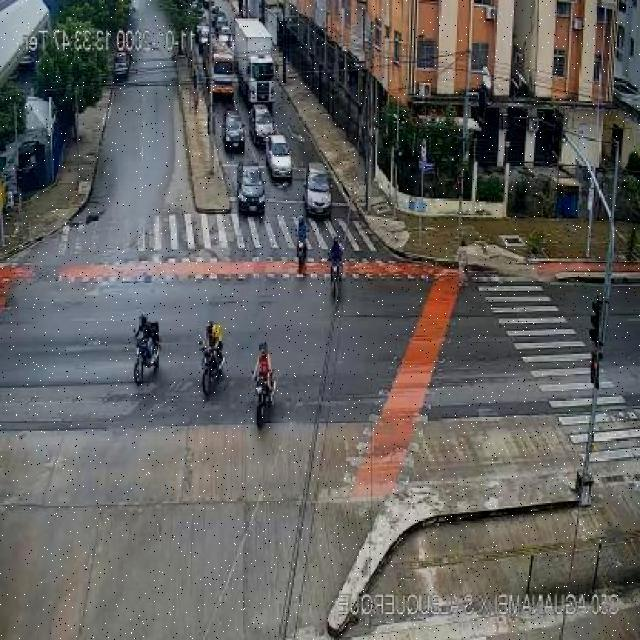Car: (305, 160, 336, 223), (263, 132, 293, 192), (236, 163, 267, 218), (220, 109, 247, 154), (250, 104, 275, 145)
Cycle: (247, 342, 280, 428), (195, 322, 228, 399), (130, 314, 163, 381), (326, 237, 349, 300), (296, 216, 312, 274)
Truck: (235, 16, 281, 107), (205, 43, 238, 100)
